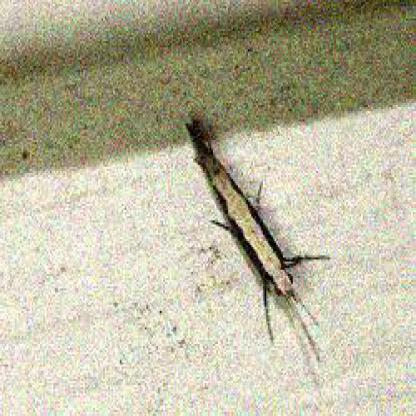plutella: (191, 125, 297, 299)
